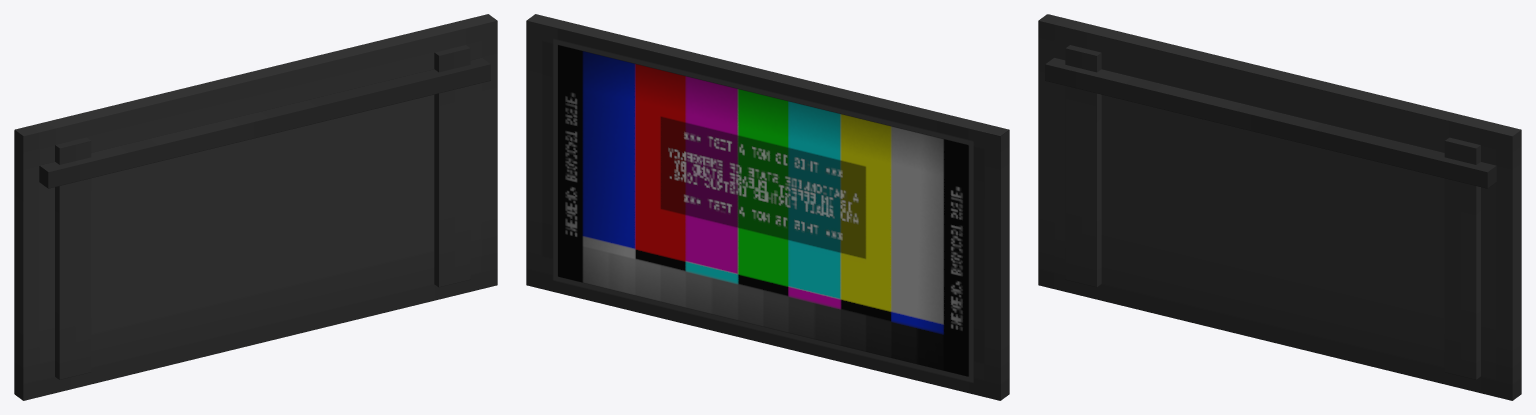
Rendered from flatscreen_t_v__emergency.obj.
The picture shows the model from 3 angles, left to right: view 1: azimuth 30°, elevation 25°; view 2: azimuth 150°, elevation 25°; view 3: azimuth 330°, elevation 25°; orthographic projection.
Visible parts, largest first — view 1: li, ll, lk, lj; view 2: lm, li; view 3: li, ll, lj, lk.
Part boxes in pixels (x1,y1,x2,y2): li: (14, 14, 497, 400); ll: (39, 57, 490, 188); lk: (434, 45, 470, 287); lj: (55, 137, 91, 379); lm: (558, 45, 968, 376); li: (526, 14, 1009, 400); li: (1038, 14, 1521, 400); ll: (1045, 57, 1496, 188); lj: (1065, 45, 1101, 287); lk: (1444, 137, 1480, 379).
Bounding box in the file's own units: 1.88 × 1 × 0.1256.
1 material, 1 textured.
